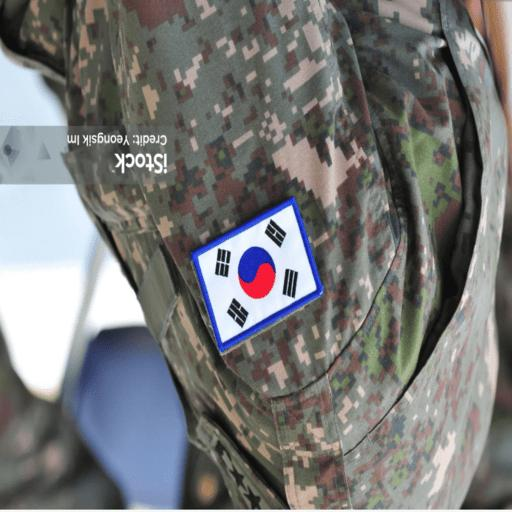korea army: (0, 1, 502, 508)
